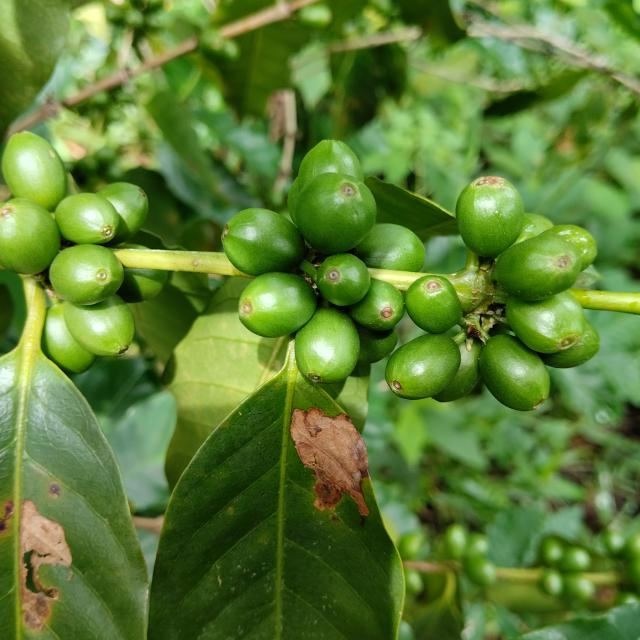green: (295, 172, 377, 254), (495, 231, 583, 301), (221, 208, 305, 276), (456, 176, 525, 257), (480, 335, 551, 411), (1, 131, 67, 211), (238, 272, 317, 338), (507, 290, 587, 354), (295, 306, 360, 384), (385, 334, 461, 400), (48, 244, 123, 305), (0, 198, 60, 274), (62, 294, 134, 356), (40, 298, 97, 374), (356, 223, 425, 272), (405, 275, 462, 334), (54, 193, 119, 244), (96, 182, 148, 245), (432, 339, 483, 402), (347, 278, 405, 331), (298, 139, 364, 184), (540, 320, 601, 368), (316, 253, 371, 306), (546, 224, 598, 271), (116, 268, 168, 303), (514, 213, 554, 244), (287, 177, 301, 224), (116, 243, 149, 249)
